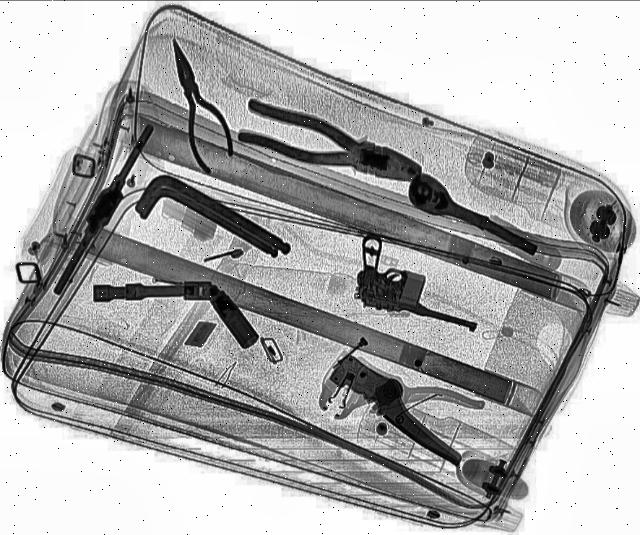Gun: (336, 230, 506, 334)
Pliers: (232, 96, 432, 190), (153, 34, 244, 176)
